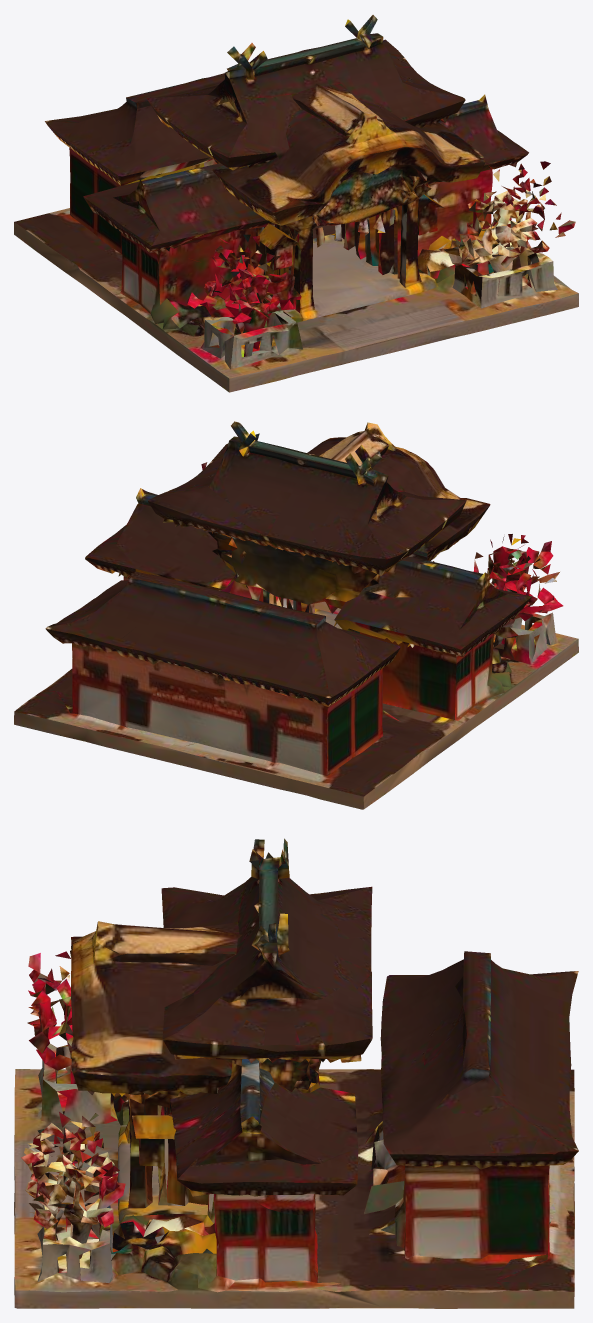
The model's file is kitano-tenmangu.glb.
3 renders of one model, top to bottom at view 1: azimuth 30°, elevation 25°; view 2: azimuth 150°, elevation 25°; view 3: azimuth 270°, elevation 25°, orthographic. The views are drawn at different scales.
Visible parts, largest first — view 1: logan-textured.obj; view 2: logan-textured.obj; view 3: logan-textured.obj.
Part boxes in pixels (left/top/right/bottom): logan-textured.obj: left=14, top=15, right=578, bottom=392; logan-textured.obj: left=14, top=421, right=578, bottom=809; logan-textured.obj: left=14, top=838, right=578, bottom=1308.
Bounding box in the file's own units: 1 × 0.6176 × 0.9917.
Materials: 1 (1 with a texture image).
